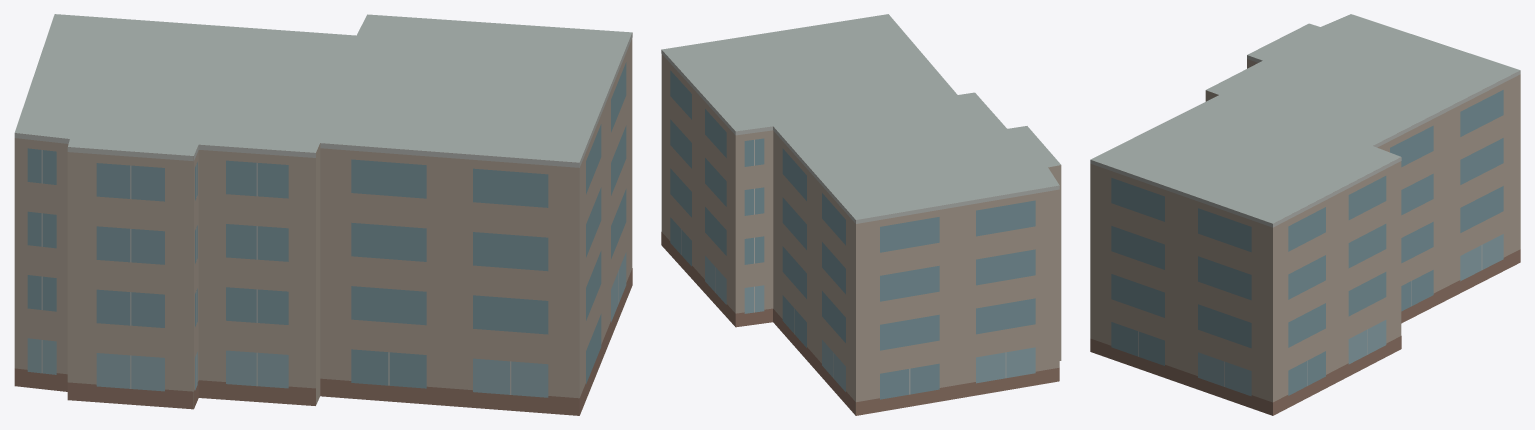
File: survey-upis-32995927.glb
3 views of the same model, side by side, from view 1: azimuth 30°, elevation 25°; view 2: azimuth 150°, elevation 25°; view 3: azimuth 270°, elevation 25° (orthographic). The views are drawn at different scales.
Parts seen in each view (by area): view 1: survey-upis-32995927.tmp; view 2: survey-upis-32995927.tmp; view 3: survey-upis-32995927.tmp.
Part boxes in pixels (<box>): survey-upis-32995927.tmp: <box>14,14,632,415</box>; survey-upis-32995927.tmp: <box>661,14,1061,415</box>; survey-upis-32995927.tmp: <box>1090,14,1520,415</box>.
Size of the model in its own units: 28.1 by 12 by 24.37.
